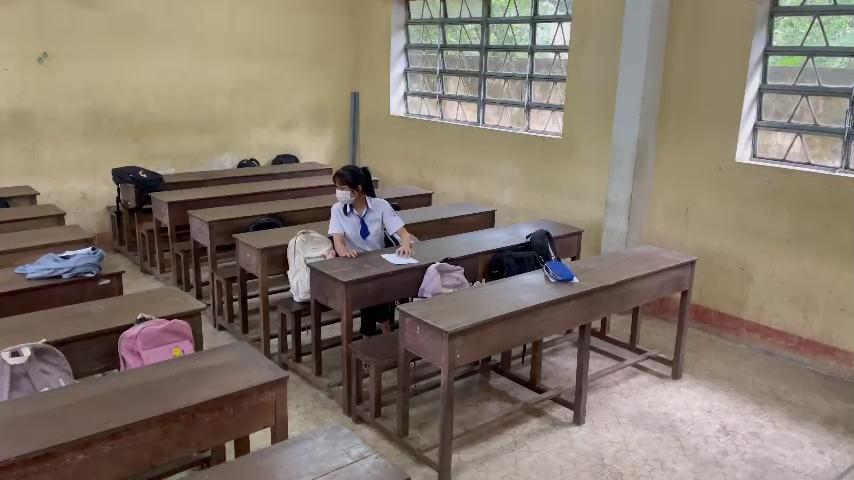Look Around: (326, 162, 375, 211)
